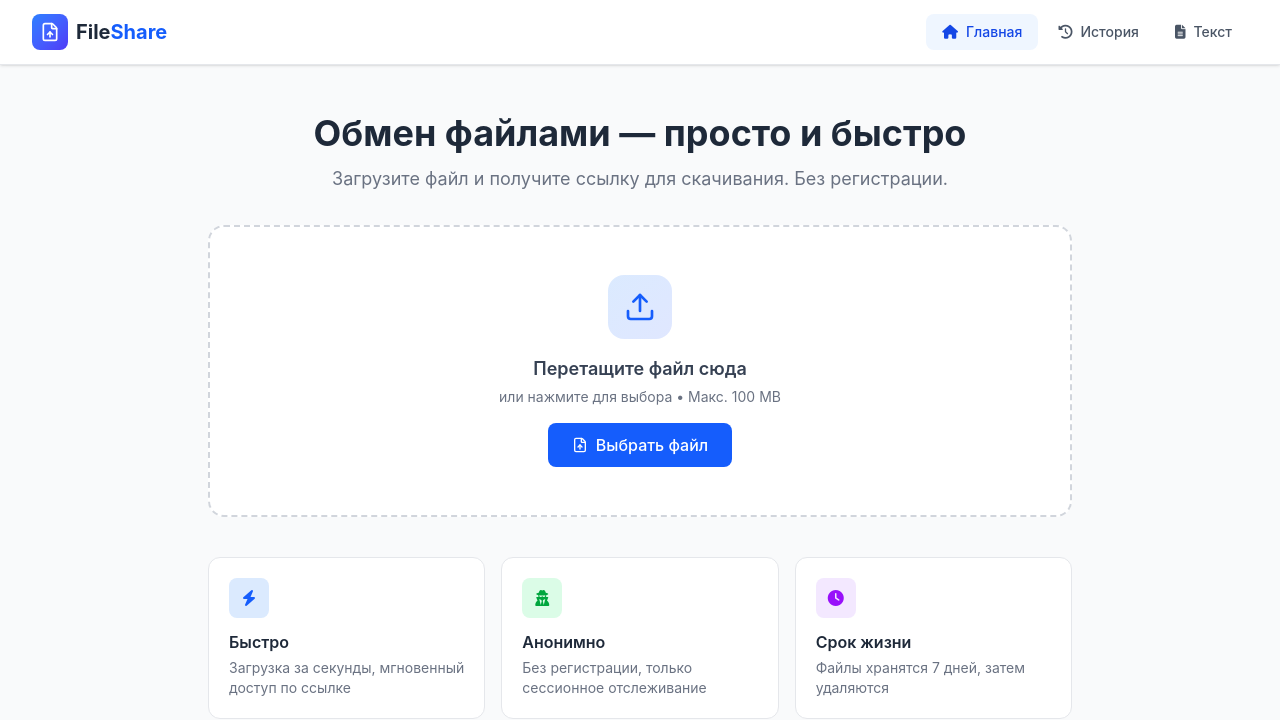
Test: FileShare — Home Page › should navigate to history page
This screenshot has width=1280, height=720.
Click the button "История" at (1099, 32), box [1042,14,1155,50]
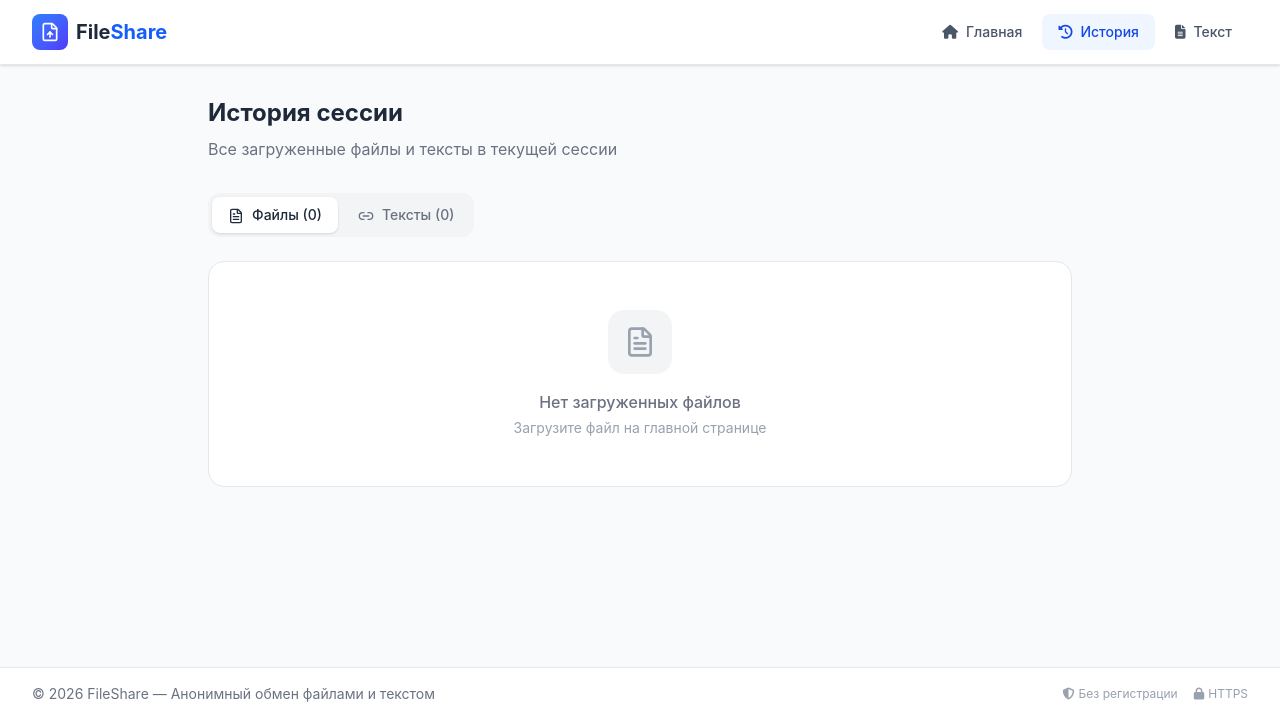
expect the heading "История сессии" is shown: met, box [208,98,403,127]
